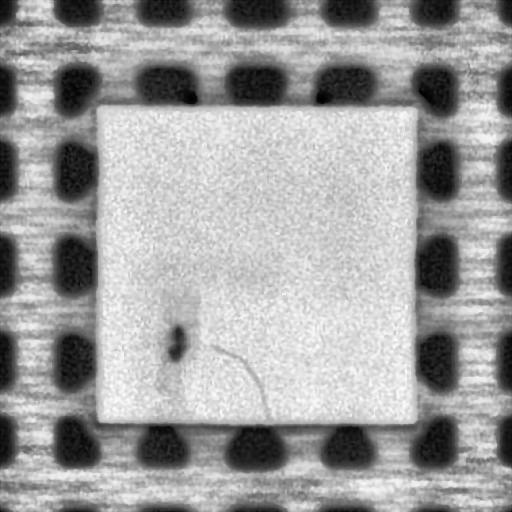DIE_CRACK: (218, 352, 270, 422)
